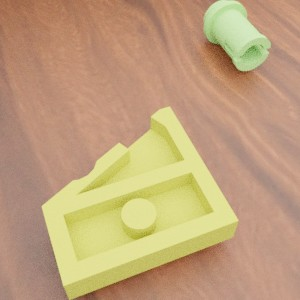lego: (41, 106, 238, 300), (203, 0, 270, 71)
